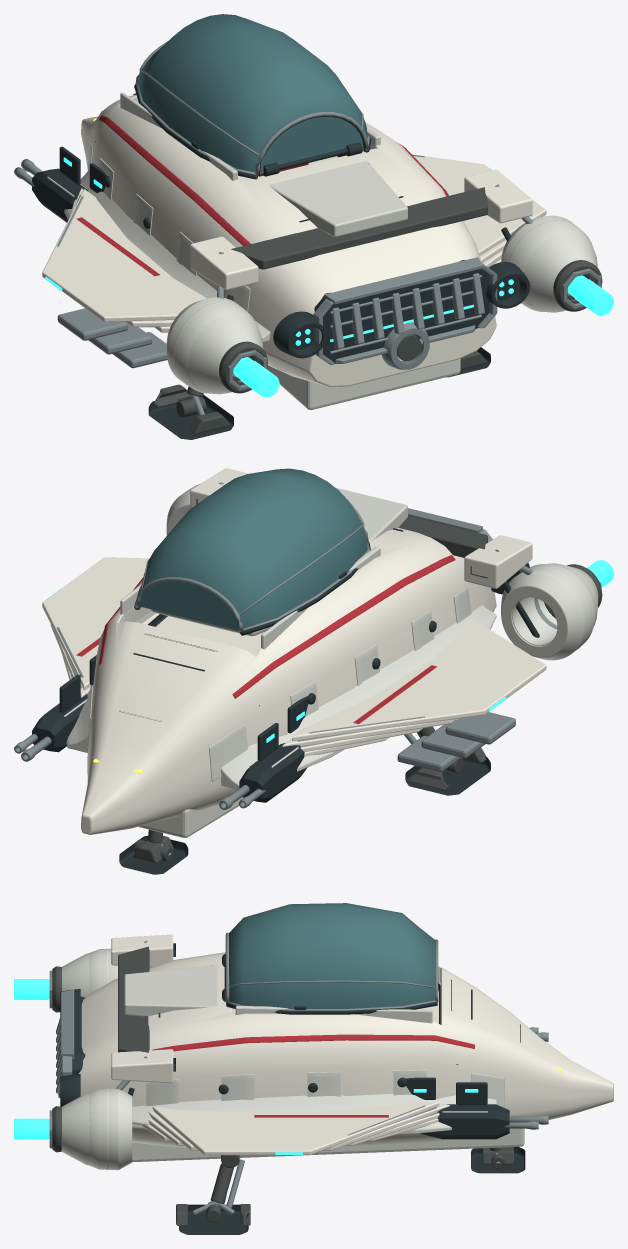
File: torrent_hero_art.glb
3 renders of one model, top to bottom at view 1: azimuth 30°, elevation 25°; view 2: azimuth 150°, elevation 25°; view 3: azimuth 270°, elevation 25°, orthographic. The views are drawn at different scales.
Parts seen in each view (by area): view 1: LOD0StaticBatch_WarmIvoryHull, CanopyGlass, LOD0StaticBatch_IvorySecondary, LOD0StaticBatch_ExposedAlloy, LOD0StaticBatch_GraphiteMachinery, LOD1StaticBatch_IvorySecondary, LOD1StaticBatch_ThermalCeramic, LOD0StaticBatch_ThermalCeramic, LOD0StaticBatch_CrimsonLivery, CanopyPivotStaticBatch_ExposedAlloy, CanopyPivotStaticBatch_GraphiteMachinery, PortEnginePlume (+4 smaller); view 2: LOD0StaticBatch_WarmIvoryHull, CanopyGlass, LOD0StaticBatch_IvorySecondary, LOD0StaticBatch_GraphiteMachinery, LOD0StaticBatch_ExposedAlloy, LOD0StaticBatch_CrimsonLivery, LOD1StaticBatch_IvorySecondary, CockpitArtStaticBatch_IvorySecondary, LOD1StaticBatch_ThermalCeramic, CanopyPivotStaticBatch_ExposedAlloy, LOD0StaticBatch_ThermalCeramic, CanopyPivotStaticBatch_GraphiteMachinery (+2 smaller); view 3: LOD0StaticBatch_WarmIvoryHull, CanopyGlass, LOD0StaticBatch_IvorySecondary, LOD0StaticBatch_GraphiteMachinery, LOD0StaticBatch_ExposedAlloy, LOD1StaticBatch_IvorySecondary, LOD0StaticBatch_CrimsonLivery, LOD1StaticBatch_ThermalCeramic, LOD0StaticBatch_ThermalCeramic, CanopyPivotStaticBatch_ExposedAlloy, CockpitArtStaticBatch_IvorySecondary, CanopyPivotStaticBatch_GraphiteMachinery (+2 smaller).
Boxes of the visible parts, x1=… form: LOD0StaticBatch_WarmIvoryHull: x1=42, y1=94, x2=546, y2=386; CanopyGlass: x1=138, y1=14, x2=367, y2=174; LOD0StaticBatch_IvorySecondary: x1=47, y1=143, x2=593, y2=409; LOD0StaticBatch_ExposedAlloy: x1=14, y1=154, x2=601, y2=415; LOD0StaticBatch_GraphiteMachinery: x1=32, y1=93, x2=530, y2=439; LOD1StaticBatch_IvorySecondary: x1=173, y1=220, x2=597, y2=394; LOD1StaticBatch_ThermalCeramic: x1=231, y1=187, x2=595, y2=385; LOD0StaticBatch_ThermalCeramic: x1=176, y1=260, x2=602, y2=417; LOD0StaticBatch_CrimsonLivery: x1=76, y1=115, x2=448, y2=276; CanopyPivotStaticBatch_ExposedAlloy: x1=135, y1=41, x2=369, y2=177; CanopyPivotStaticBatch_GraphiteMachinery: x1=134, y1=84, x2=371, y2=179; PortEnginePlume: x1=238, y1=360, x2=279, y2=397; LOD0StaticBatch_WarmIvoryHull: x1=42, y1=468, x2=546, y2=834; CanopyGlass: x1=139, y1=468, x2=367, y2=630; LOD0StaticBatch_IvorySecondary: x1=47, y1=484, x2=596, y2=837; LOD0StaticBatch_GraphiteMachinery: x1=32, y1=499, x2=555, y2=874; LOD0StaticBatch_ExposedAlloy: x1=14, y1=482, x2=601, y2=856; LOD0StaticBatch_CrimsonLivery: x1=76, y1=555, x2=455, y2=724; LOD1StaticBatch_IvorySecondary: x1=185, y1=486, x2=598, y2=649; CockpitArtStaticBatch_IvorySecondary: x1=120, y1=546, x2=380, y2=649; LOD1StaticBatch_ThermalCeramic: x1=398, y1=516, x2=553, y2=612; CanopyPivotStaticBatch_ExposedAlloy: x1=135, y1=503, x2=369, y2=633; LOD0StaticBatch_ThermalCeramic: x1=134, y1=564, x2=602, y2=861; CanopyPivotStaticBatch_GraphiteMachinery: x1=134, y1=542, x2=370, y2=635; LOD0StaticBatch_WarmIvoryHull: x1=79, y1=934, x2=613, y2=1155; CanopyGlass: x1=229, y1=903, x2=435, y2=1008; LOD0StaticBatch_IvorySecondary: x1=88, y1=948, x2=524, y2=1170; LOD0StaticBatch_GraphiteMachinery: x1=60, y1=943, x2=525, y2=1234; LOD0StaticBatch_ExposedAlloy: x1=49, y1=940, x2=548, y2=1215; LOD1StaticBatch_IvorySecondary: x1=61, y1=948, x2=108, y2=1169; LOD0StaticBatch_CrimsonLivery: x1=152, y1=1034, x2=474, y2=1117; LOD1StaticBatch_ThermalCeramic: x1=118, y1=946, x2=149, y2=1052; LOD0StaticBatch_ThermalCeramic: x1=52, y1=966, x2=504, y2=1222; CanopyPivotStaticBatch_ExposedAlloy: x1=225, y1=932, x2=438, y2=1010; CockpitArtStaticBatch_IvorySecondary: x1=235, y1=1005, x2=432, y2=1023; CanopyPivotStaticBatch_GraphiteMachinery: x1=222, y1=953, x2=437, y2=1014.
Size of the model in its own units: 6.66 by 4.36 by 9.07.
